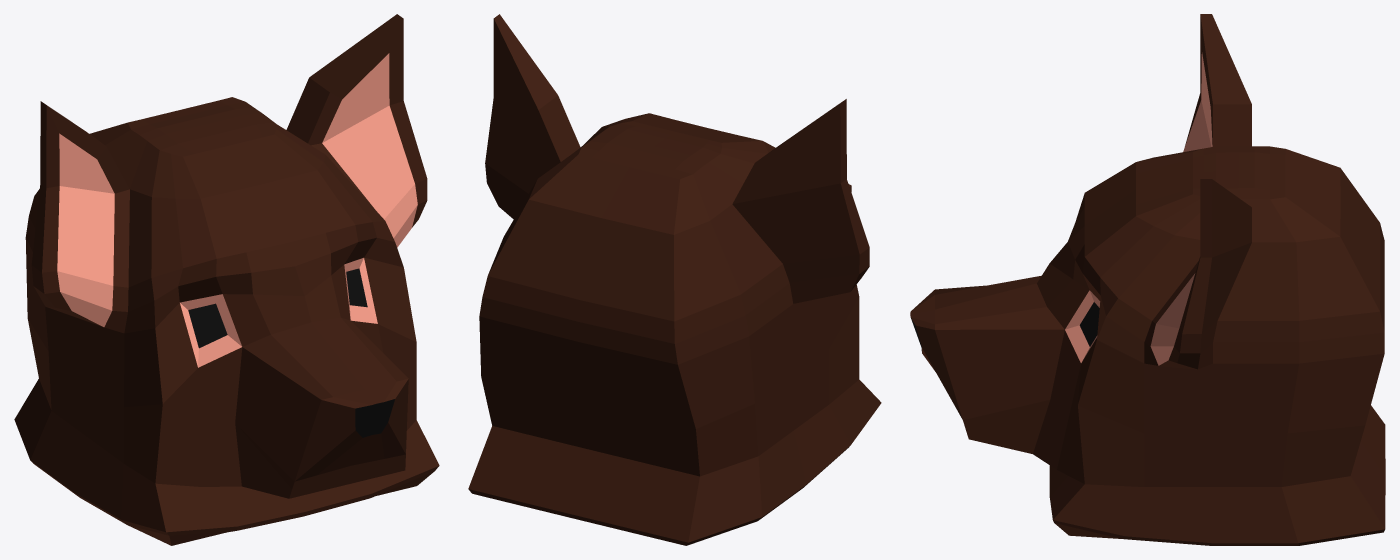
Rendered from Dog.fbx.
3 views of the same model, side by side, from view 1: azimuth 30°, elevation 25°; view 2: azimuth 150°, elevation 25°; view 3: azimuth 270°, elevation 25° (orthographic). The views are drawn at different scales.
Visible parts, largest first — view 1: Cube.001; view 2: Cube.001; view 3: Cube.001.
Boxes of the visible parts, left/top/right/bottom form: Cube.001: left=14, top=14, right=439, bottom=545; Cube.001: left=468, top=14, right=881, bottom=545; Cube.001: left=910, top=14, right=1385, bottom=545.
Size of the model in its own units: 27.81 by 28 by 31.32.
